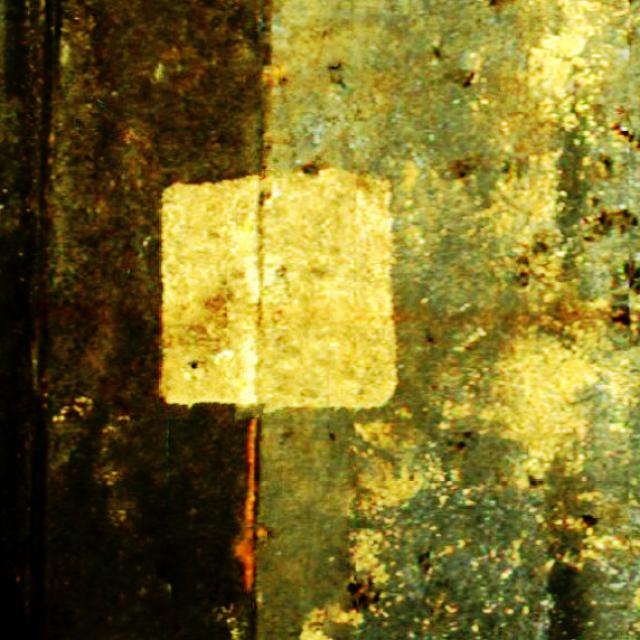Corrosion: (235, 415, 269, 590), (265, 66, 283, 81)
